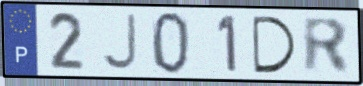0: (150, 10, 192, 76)
1: (214, 13, 241, 75)
2: (46, 11, 86, 72)
D: (249, 13, 300, 75)
J: (99, 12, 139, 72)
R: (300, 15, 353, 76)
